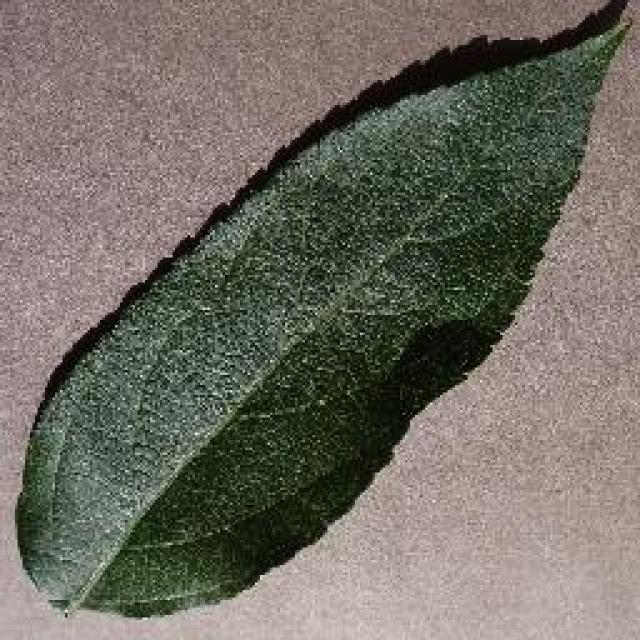apple healthy: (13, 0, 635, 620)
